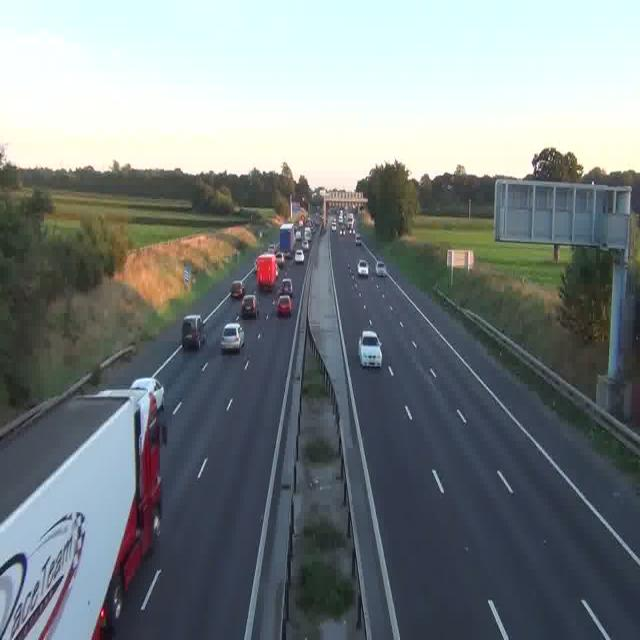car: (180, 314, 204, 349), (358, 331, 381, 366), (220, 322, 244, 351), (240, 294, 257, 318), (276, 294, 292, 316), (230, 282, 244, 300), (278, 276, 292, 294), (357, 259, 369, 278), (375, 260, 386, 278), (278, 252, 288, 266), (294, 249, 304, 262), (354, 234, 361, 245), (332, 225, 338, 234)
truck: (0, 381, 166, 639), (257, 252, 277, 290), (277, 224, 293, 255)
